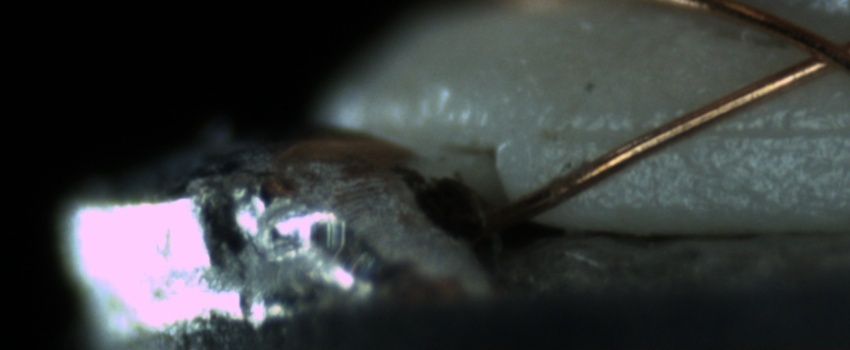CL: (780, 15, 849, 82)
DL: (550, 101, 850, 165)
